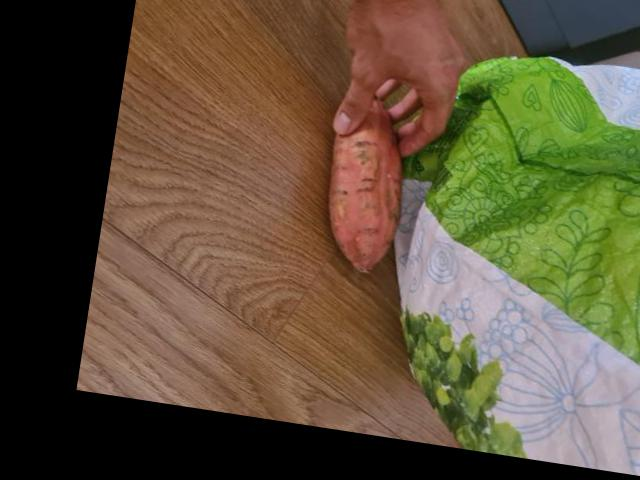sweet_potato: (307, 90, 423, 284)
